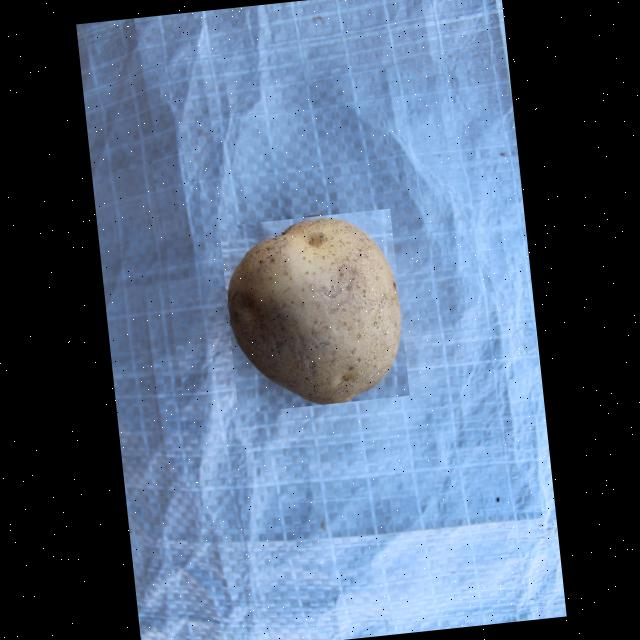Diseased-fungal potato: (218, 208, 408, 413)
